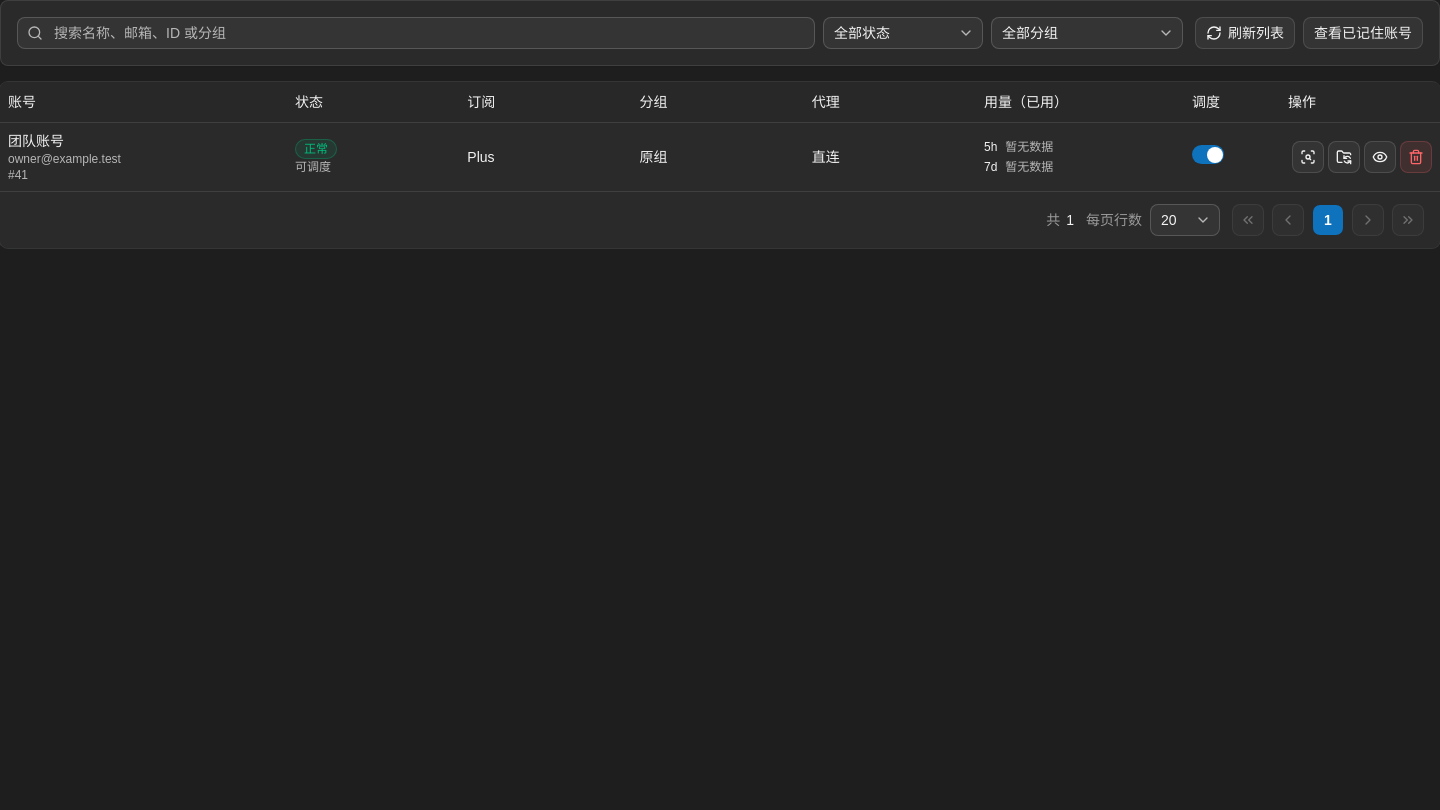
选择后取消关闭弹窗且不提交分组变更
The image size is (1440, 810).
Click the button named "移动 团队账号 分组".
click(1344, 156)  # box [1328,140,1360,172]
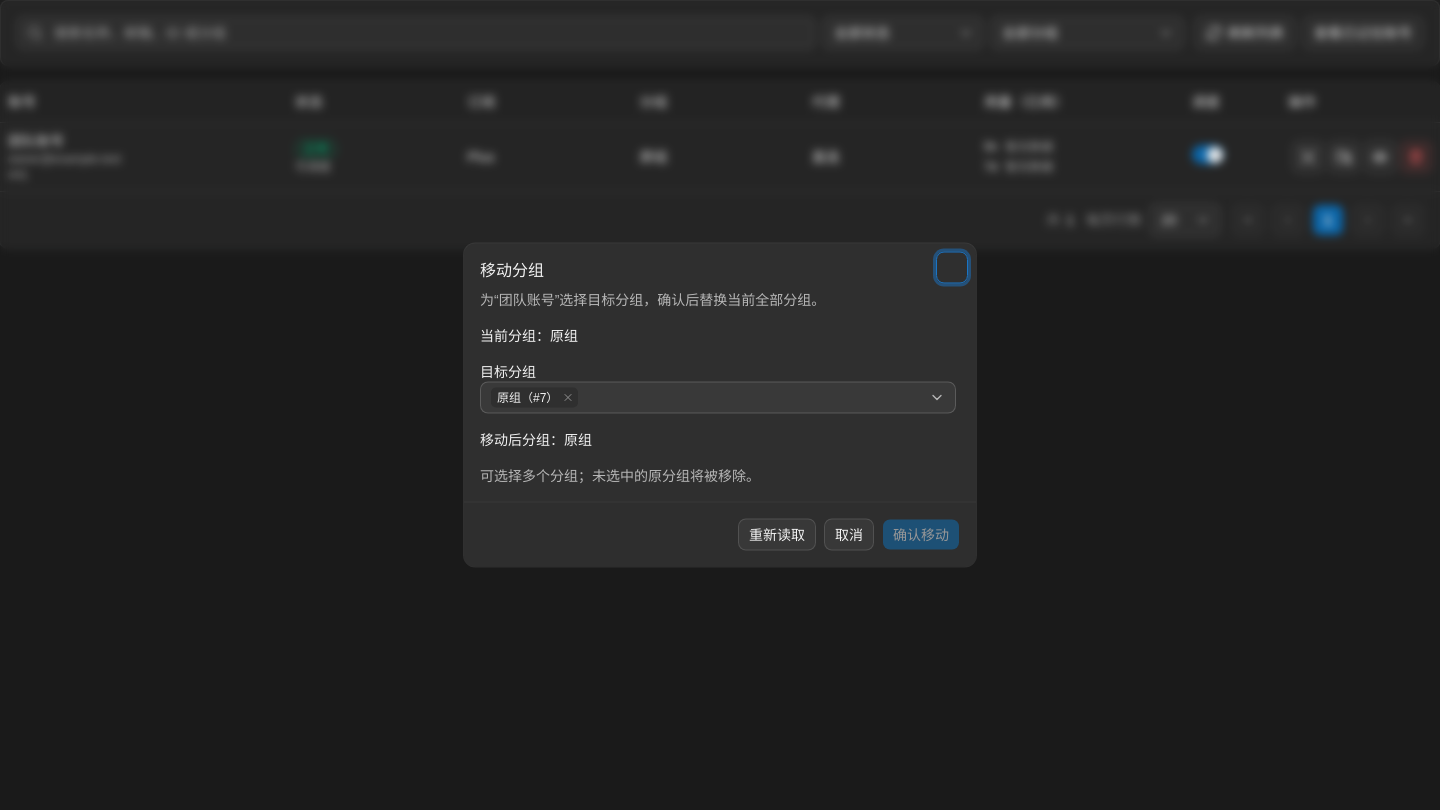
Check: the button "确认移动" is shown, box [882,518,960,550]
Click the dropdown named "目标分组".
click(718, 398)  # box [480,382,956,414]
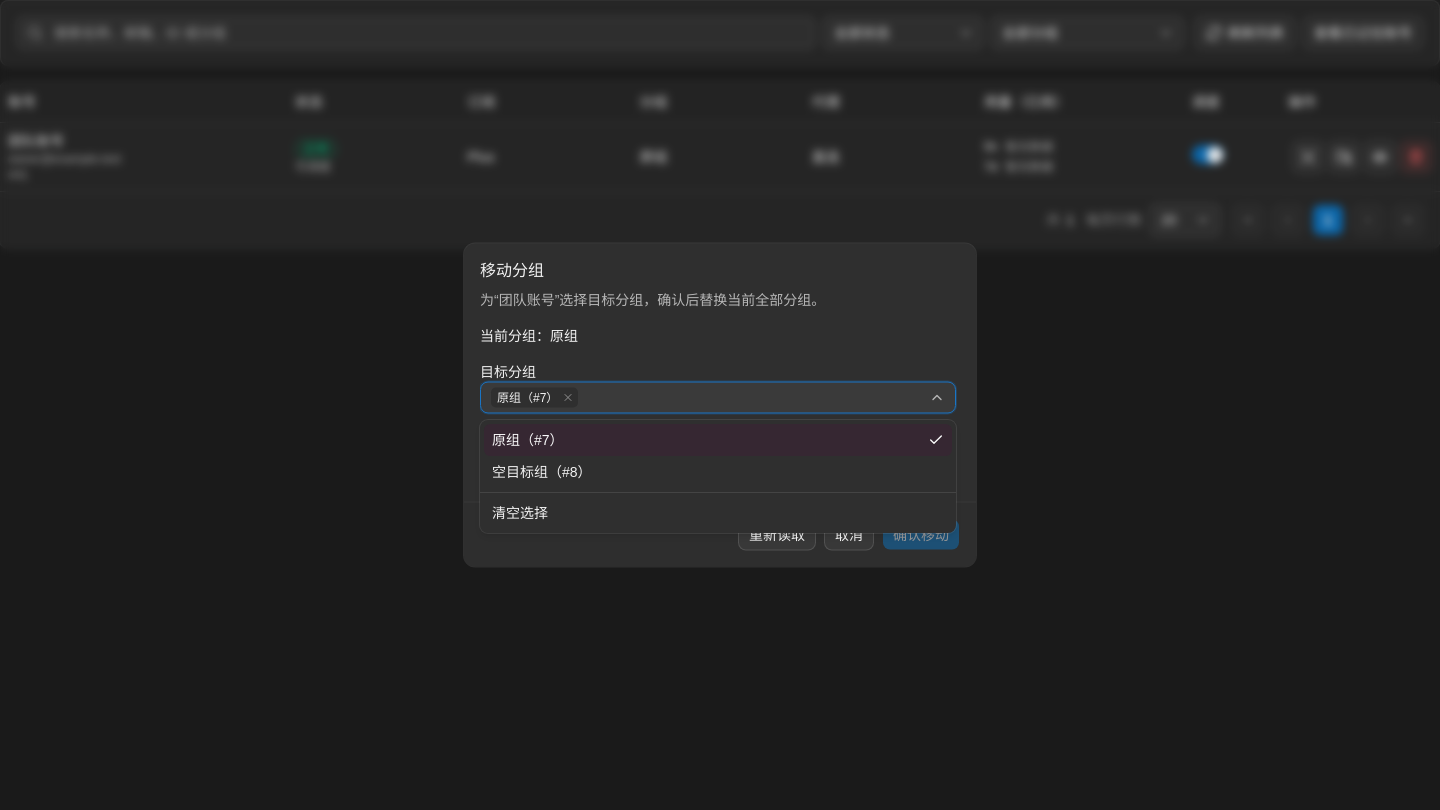
Click the option "原组（#7）".
click(528, 440)  # box [484,424,952,456]
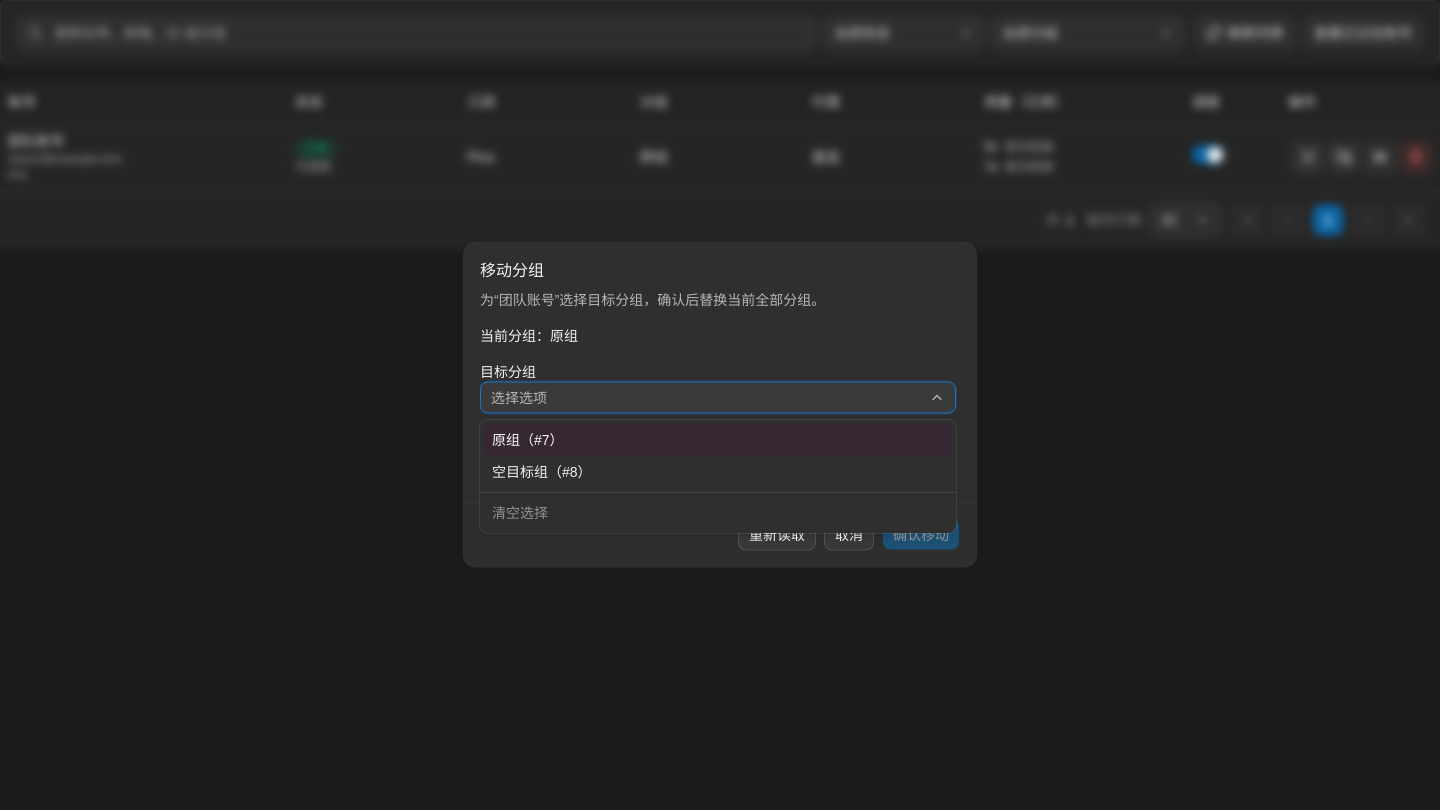
Click the option "空目标组（#8）".
click(542, 472)  # box [492,464,592,480]
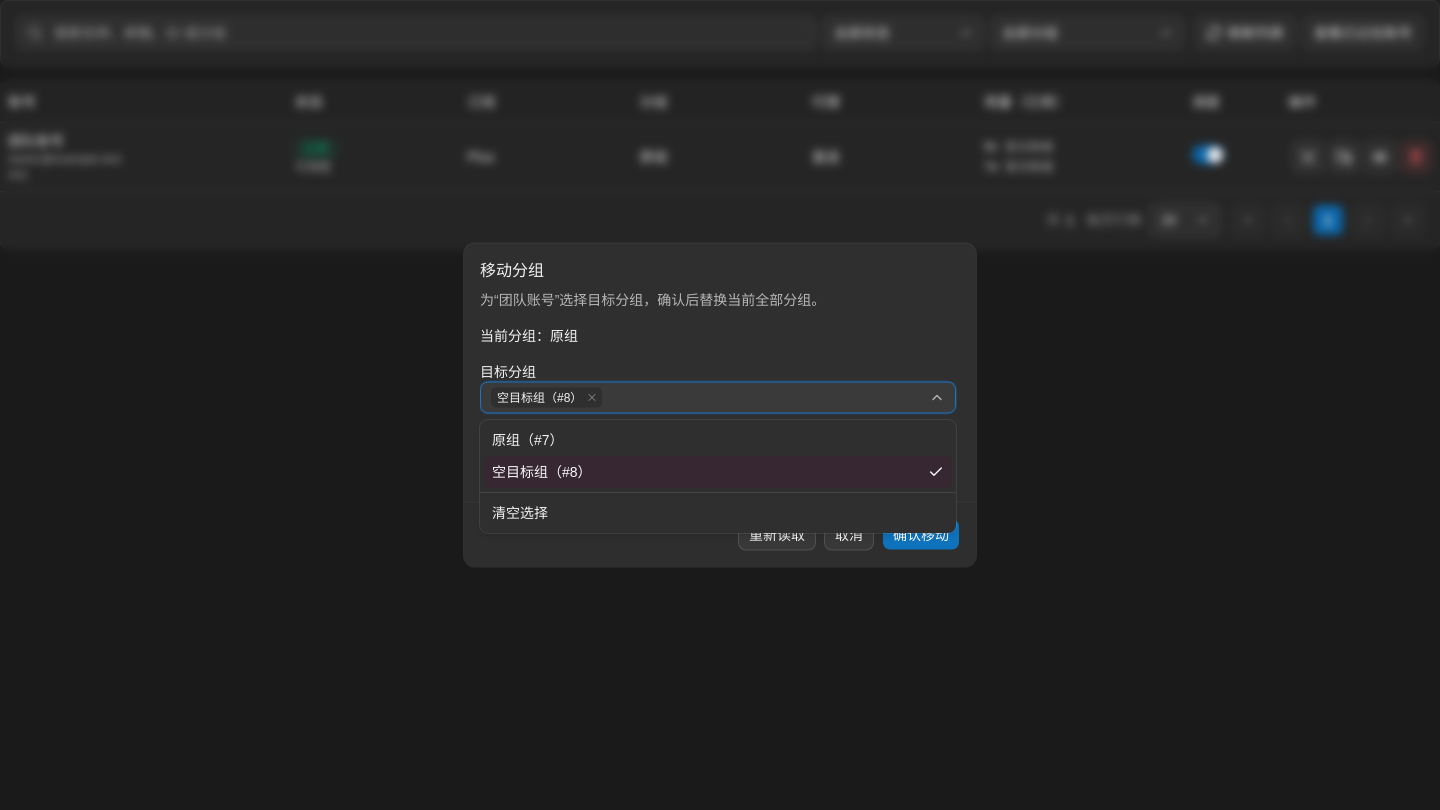
Check: the option "空目标组（#8）" is selected, box [484,456,952,488]
Press Escape
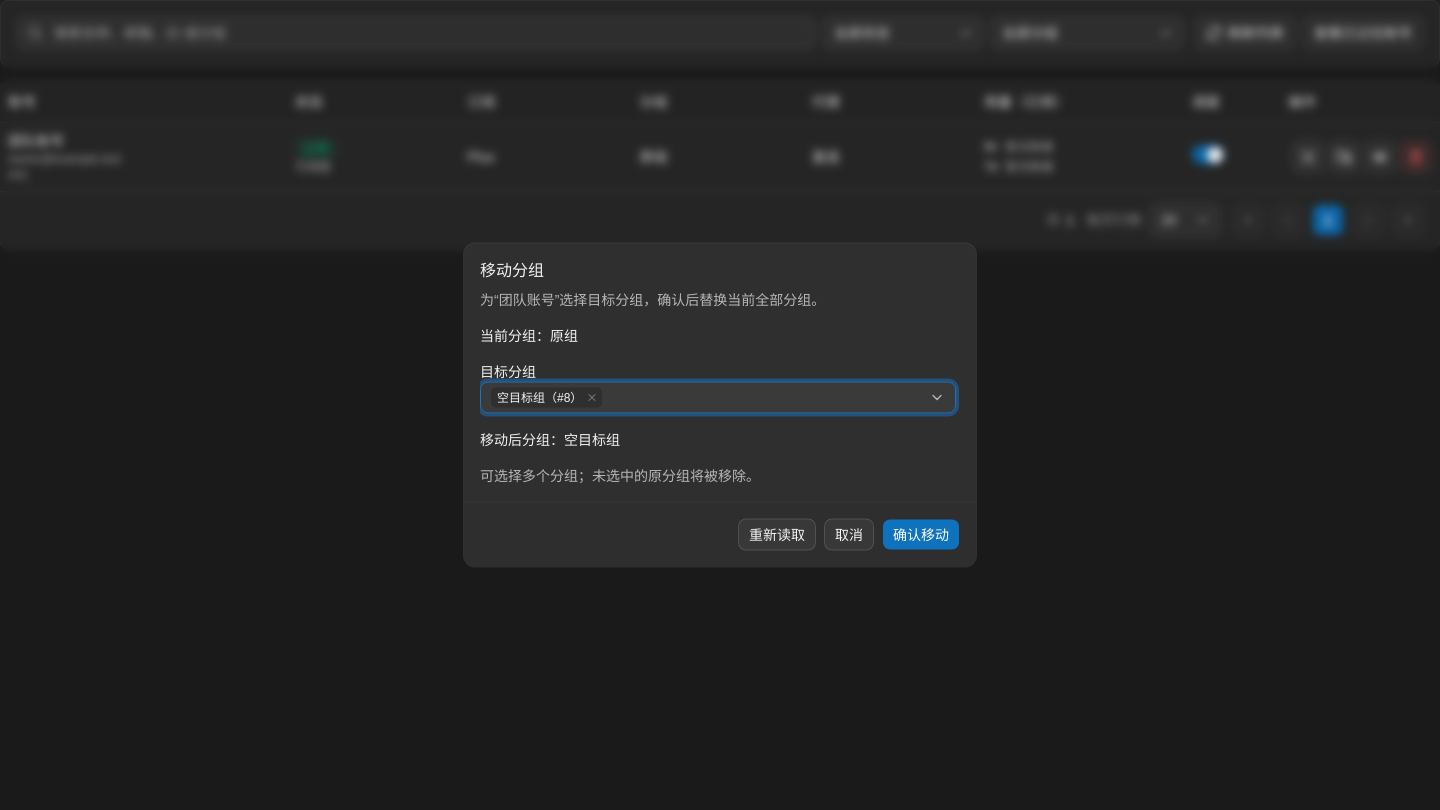
Click the button "取消".
click(849, 534)  # box [824,518,874,550]
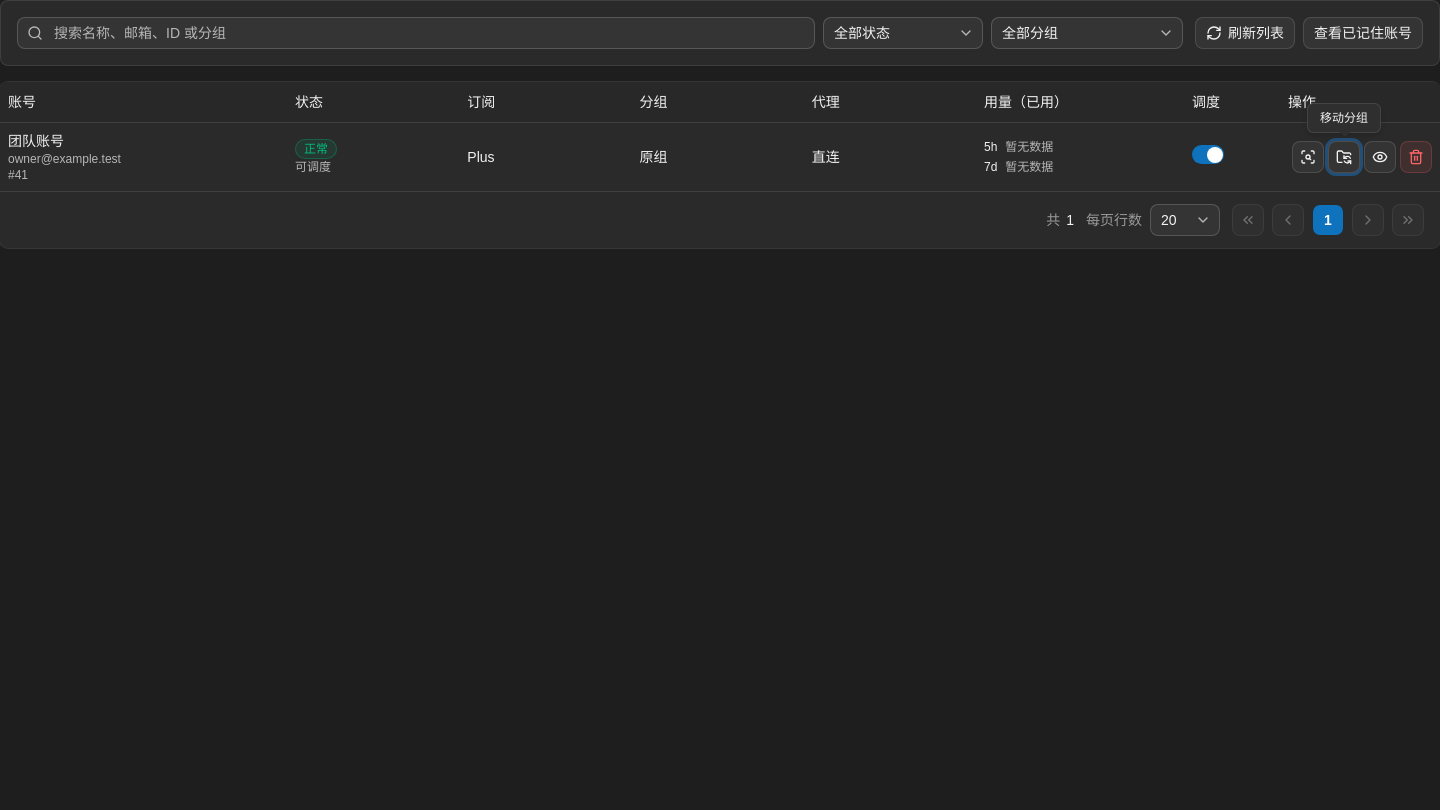
Check: the dialog is gone
